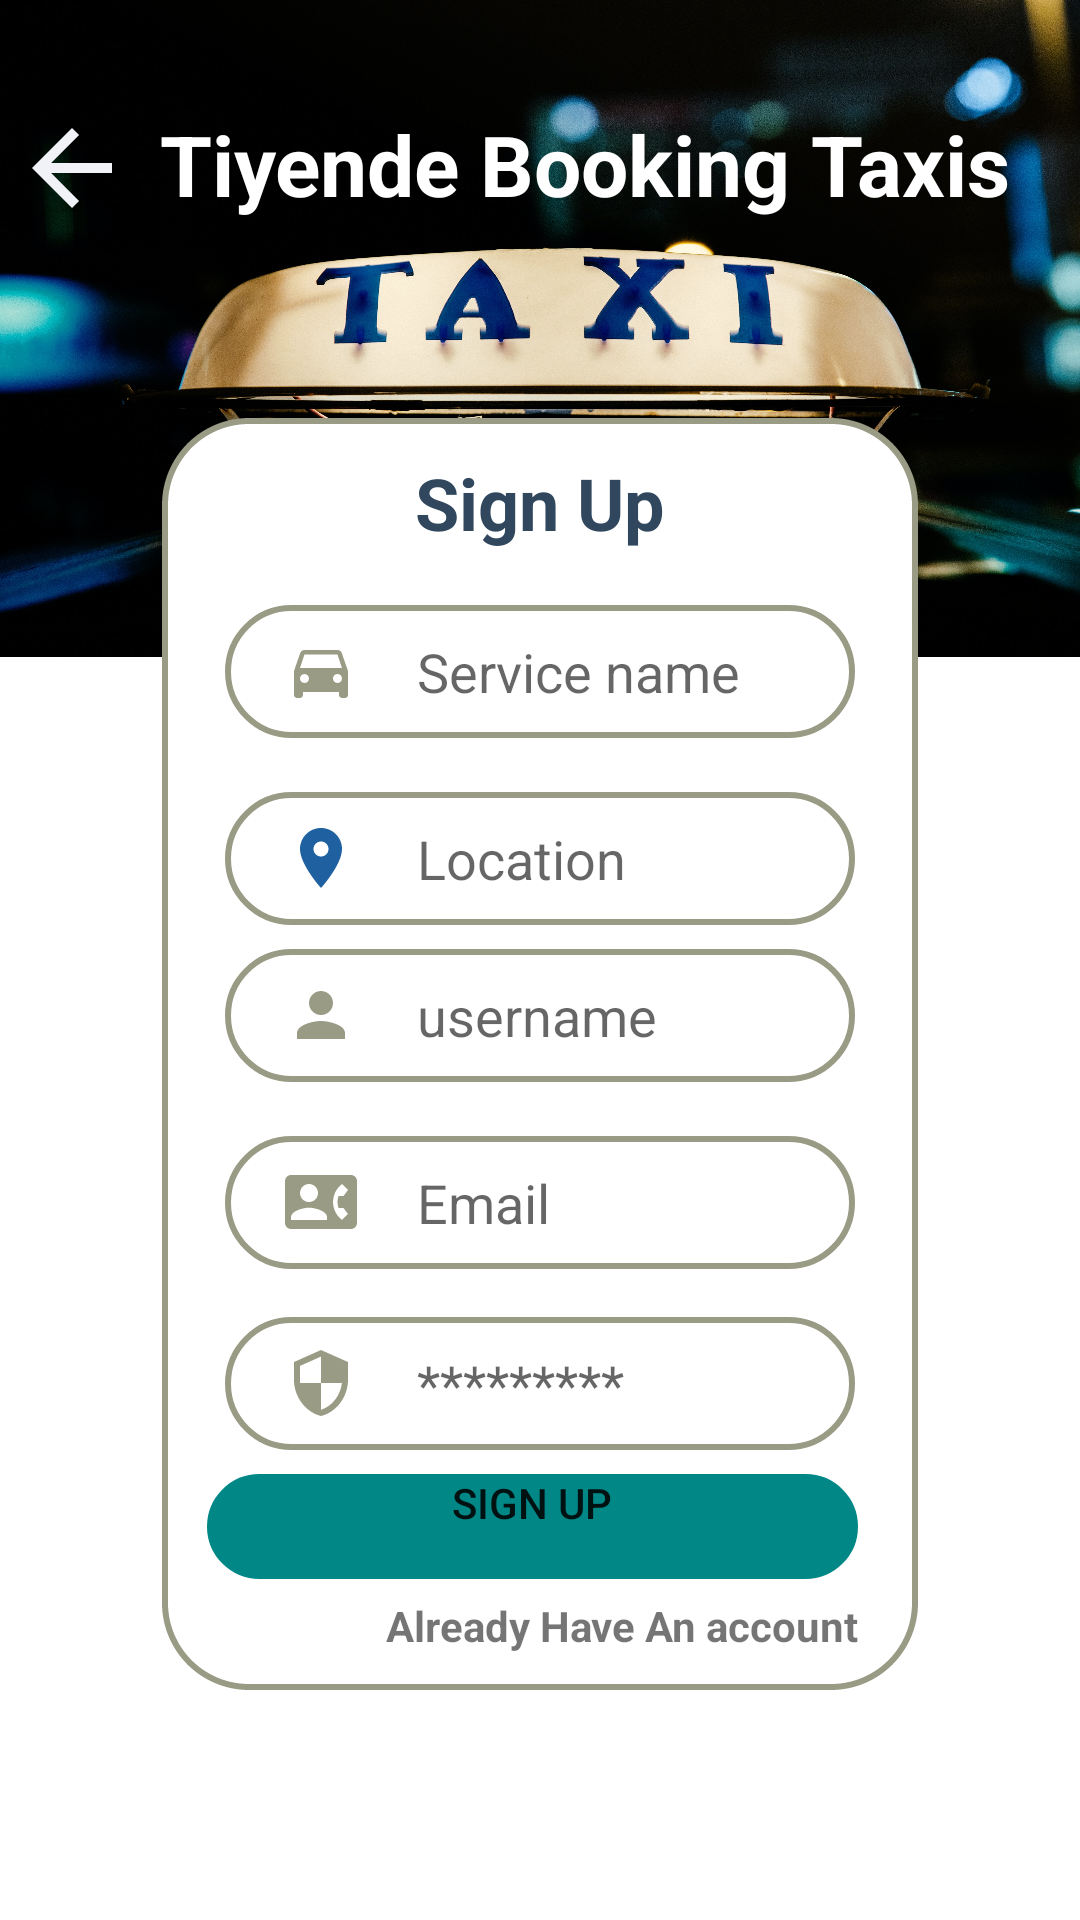

Icons on this 1080×1920 Android screen, each with its box as bbox=(x1, y1, x2, y2):
goback arrow: bbox=(32, 128, 112, 228)
